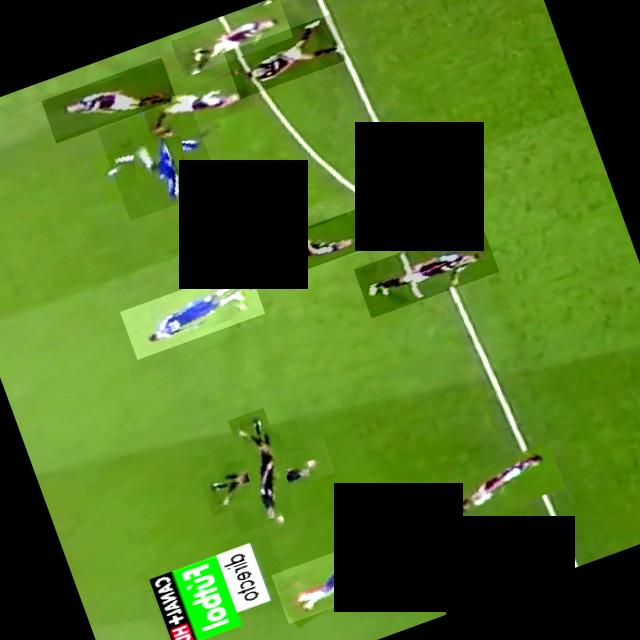soccer-player: (98, 96, 220, 220), (416, 442, 567, 538), (353, 222, 499, 317), (271, 528, 415, 624), (120, 264, 265, 358), (210, 417, 326, 532), (41, 56, 177, 142), (235, 208, 368, 290), (224, 13, 346, 98), (168, 0, 293, 76), (140, 67, 256, 141)
